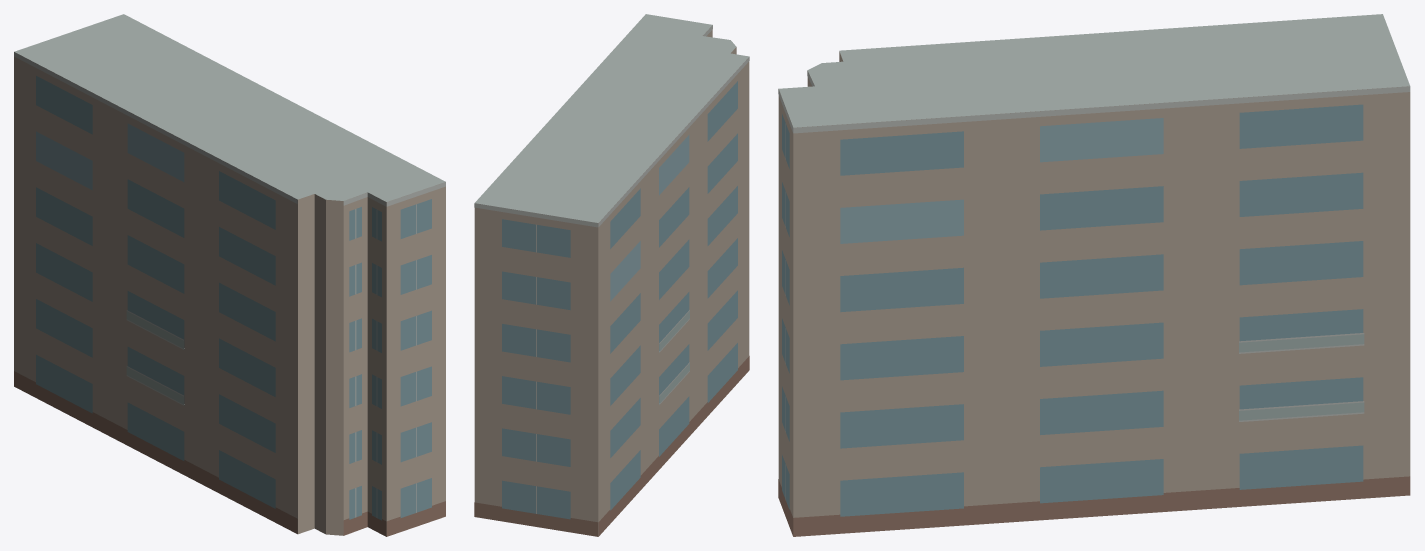
Rendered from survey-upis-32714582.glb.
3 views of the same model, side by side, from view 1: azimuth 30°, elevation 25°; view 2: azimuth 150°, elevation 25°; view 3: azimuth 270°, elevation 25° (orthographic). The views are drawn at different scales.
Parts seen in each view (by area): view 1: survey-upis-32714582.tmp; view 2: survey-upis-32714582.tmp; view 3: survey-upis-32714582.tmp.
Boxes of the visible parts, <box> form: survey-upis-32714582.tmp: <box>14,14,445,536</box>; survey-upis-32714582.tmp: <box>474,14,749,536</box>; survey-upis-32714582.tmp: <box>778,14,1410,536</box>.
Size of the model in its own units: 10.32 by 17.3 by 24.22.
